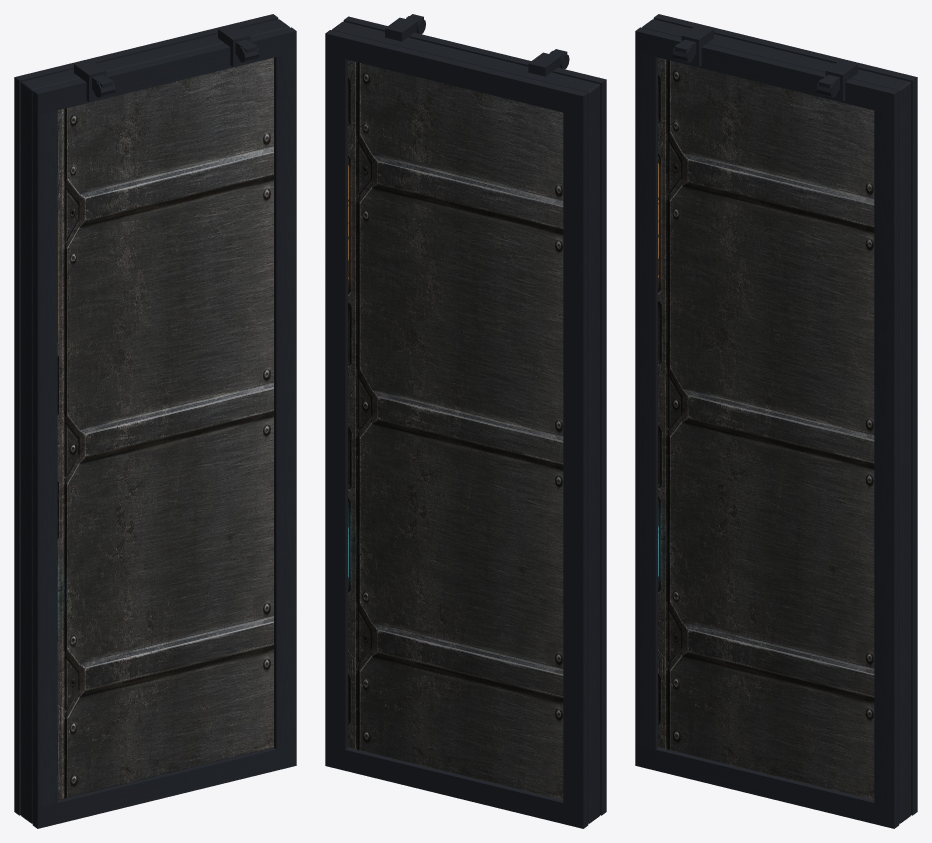
File: door_leaf_r.glb
3 renders of one model, left to right at view 1: azimuth 30°, elevation 25°; view 2: azimuth 150°, elevation 25°; view 3: azimuth 330°, elevation 25°, orthographic.
Visible parts, largest first — view 1: door_leaf_r; view 2: door_leaf_r; view 3: door_leaf_r.
Boxes of the visible parts, <box> form: door_leaf_r: <box>14,14,296,828</box>; door_leaf_r: <box>325,14,606,828</box>; door_leaf_r: <box>635,14,917,828</box>.
Size of the model in its own units: 0.9 by 2.49 by 0.219.
Materials: 3 (3 with a texture image).
